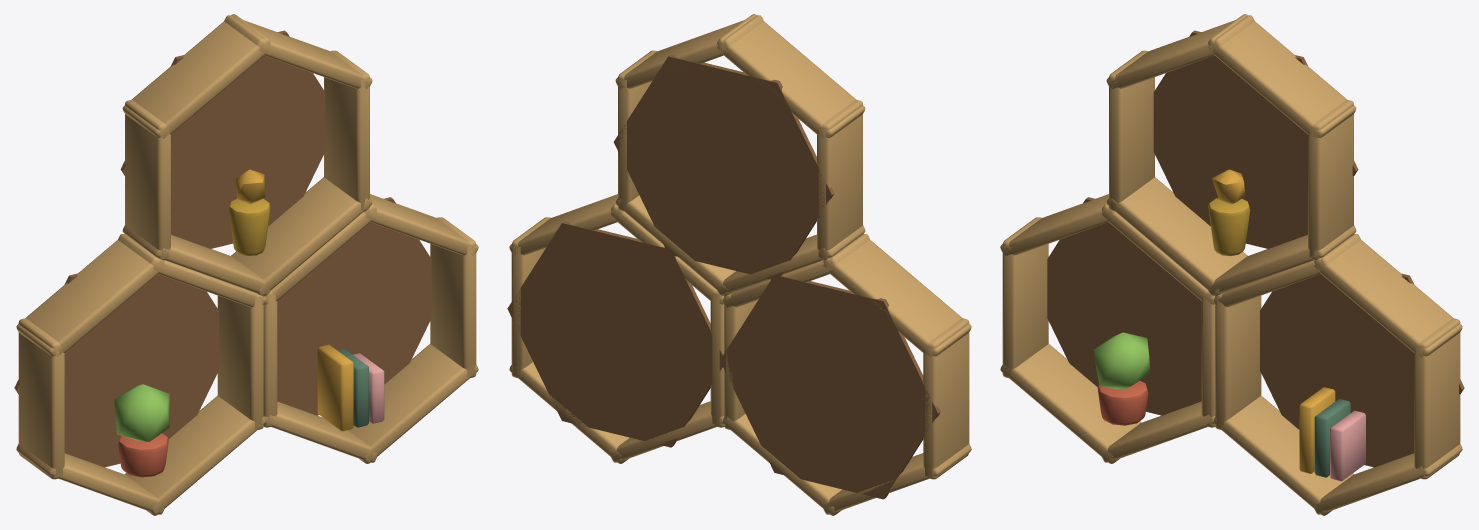
Rendered from hex_shelf.glb.
The picture shows the model from 3 angles, left to right: view 1: azimuth 30°, elevation 25°; view 2: azimuth 150°, elevation 25°; view 3: azimuth 330°, elevation 25°; orthographic projection.
Parts seen in each view (by area): view 1: hex_shelf; view 2: hex_shelf; view 3: hex_shelf.
Boxes of the visible parts, x1=… form: hex_shelf: x1=14, y1=14, x2=478, y2=515; hex_shelf: x1=507, y1=14, x2=971, y2=515; hex_shelf: x1=1000, y1=14, x2=1464, y2=515.
Size of the model in its own units: 1.12 by 1.12 by 0.16.
Materials: 1 (1 with a texture image).
